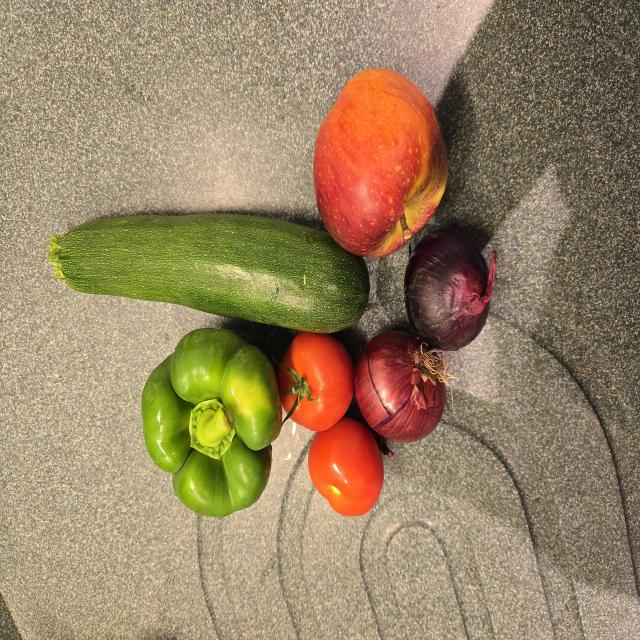Apple: (313, 69, 448, 258)
Bell Pepper: (141, 328, 283, 518)
Courgette: (48, 213, 369, 333)
Onion: (404, 228, 494, 351), (354, 331, 446, 442)
Tomato: (308, 418, 384, 515), (280, 332, 354, 431)
